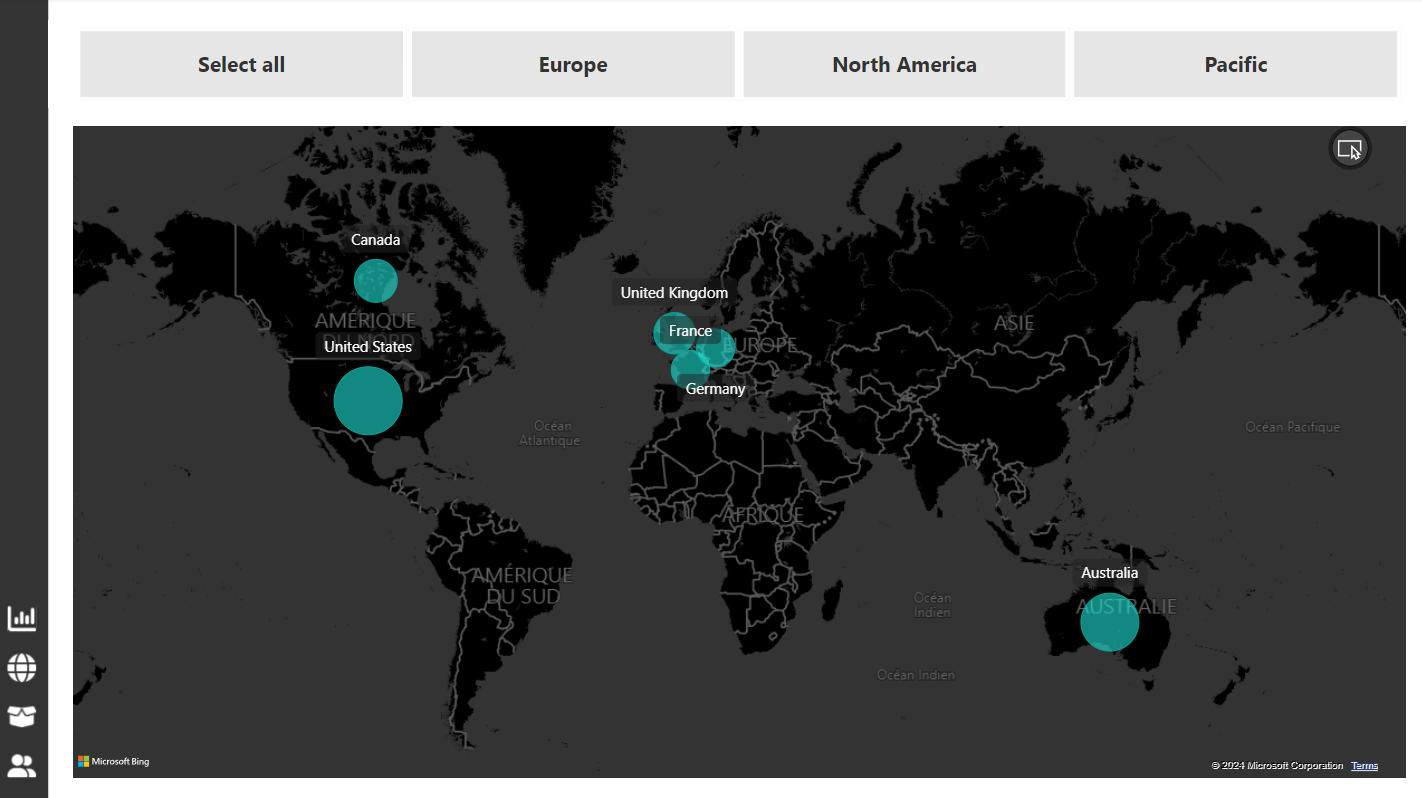

What the dashboard file says about the page in this screenshot:
{"tool":"powerbi","page":{"name":"Map","canvas":[1280,720],"ordinal":1},"visuals":[{"type":"shape","box":[0,0,45,720],"z":0},{"type":"actionButton","box":[4.6,538.9,33.7,33.7],"z":0,"group":"g1"},{"type":"actionButton","box":[4.6,582.7,33.7,33.7],"z":1000,"group":"g1"},{"type":"map","fields":{"Category":["Territory Lookup.Country"],"Size":["Measure Table.Total Orders"]},"box":[61.8,109.3,1203.6,593.7],"z":1000},{"type":"slicer","fields":{"Values":["Territory Lookup.Continent"]},"box":[44.9,20,1235.1,78.8],"z":2000},{"type":"actionButton","box":[4.6,626.4,33.7,33.7],"z":2000,"group":"g1"},{"type":"actionButton","box":[4.6,670.2,33.7,33.7],"z":3000,"group":"g1"},{"type":"group","id":"g1","title":"Navigation Buttens","box":[4.6,538.9,33.7,164.9],"z":3000}]}

Visuals, with their boxes on the page's 1280x720 design canvas (x1, y1, x2, y2). These are canvas units, not pixel positions in the 1422x798 screenshot, which may show the page scaled, cropped or inside an application window:
shape: <region>0, 0, 45, 720</region>
actionButton: <region>5, 539, 38, 573</region>
actionButton: <region>5, 583, 38, 616</region>
map - Territory Lookup.Country x Measure Table.Total Orders: <region>62, 109, 1265, 703</region>
slicer - Territory Lookup.Continent: <region>45, 20, 1280, 99</region>
actionButton: <region>5, 626, 38, 660</region>
actionButton: <region>5, 670, 38, 704</region>
"Navigation Buttens" group: <region>5, 539, 38, 704</region>
